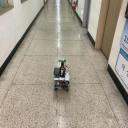cart: (53, 68, 70, 92)
